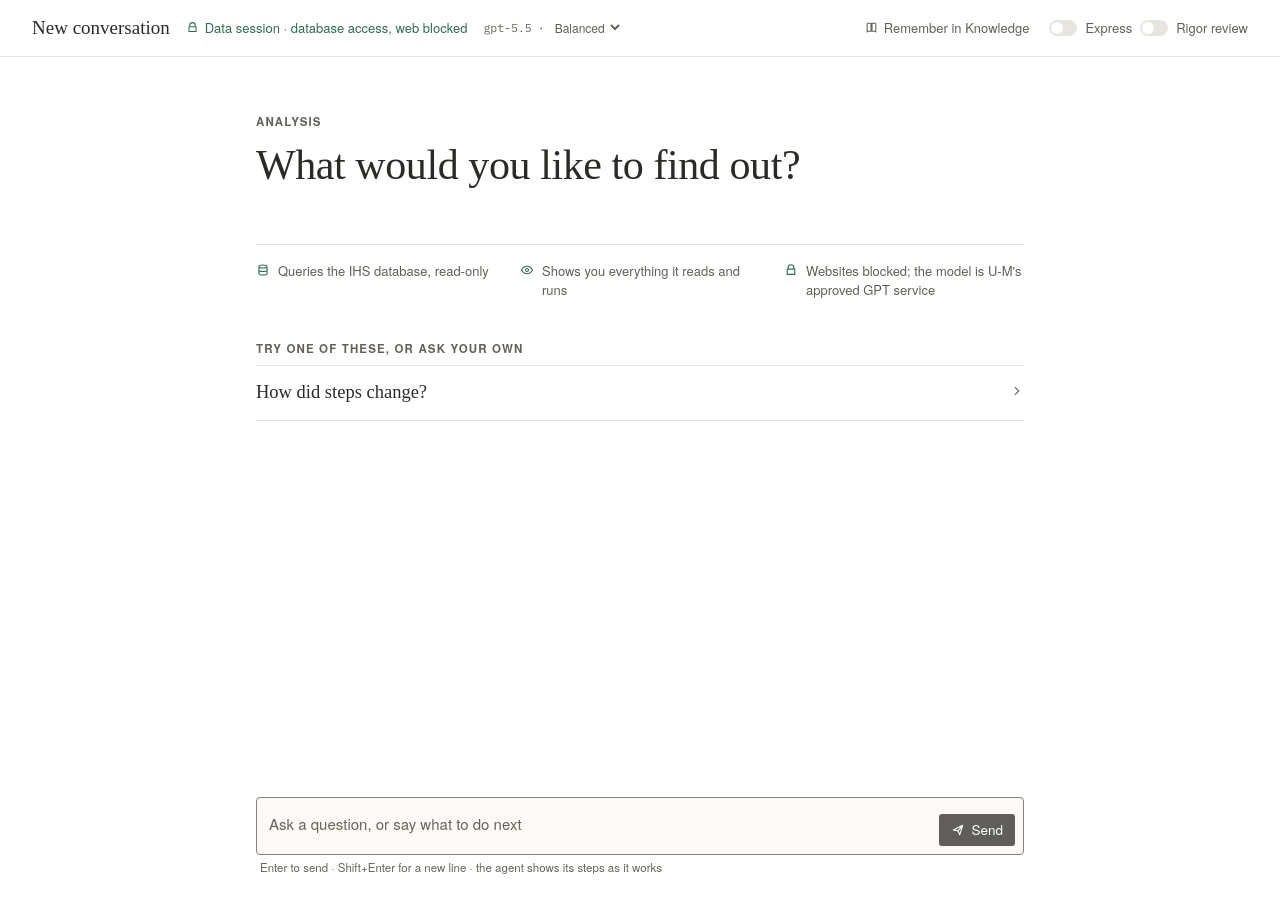
Test: puts a starter that couldn't be sent in the box
This screenshot has width=1280, height=900.
Click the button "How did steps change?".
click(342, 392)  # box 256,366 -> 1024,420
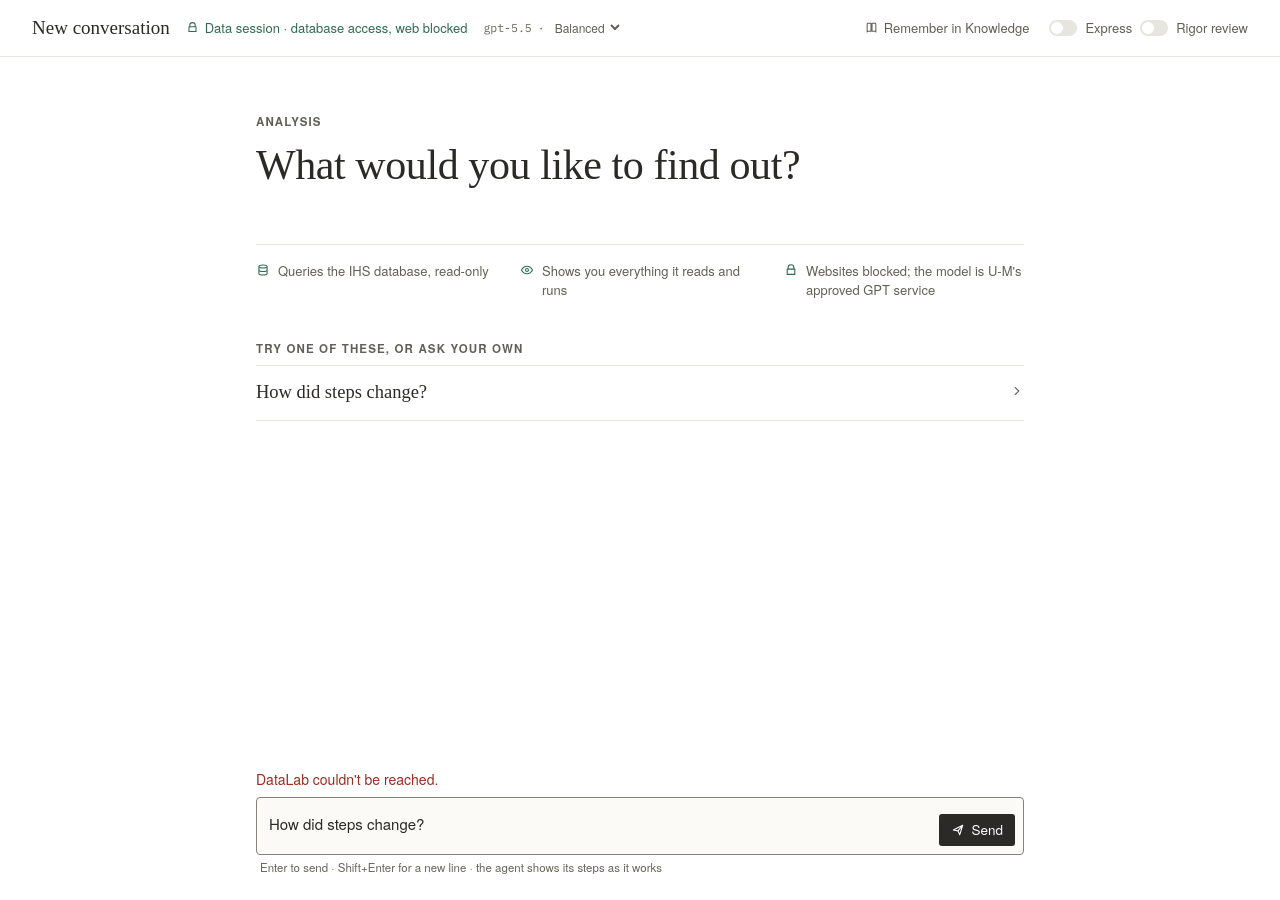
expect the text box named "Your question or instruction" holds "How did steps change?": met, box 269,806 -> 932,846
expect the text "DataLab couldn't be reached." is shown: met, box 256,769 -> 438,789
